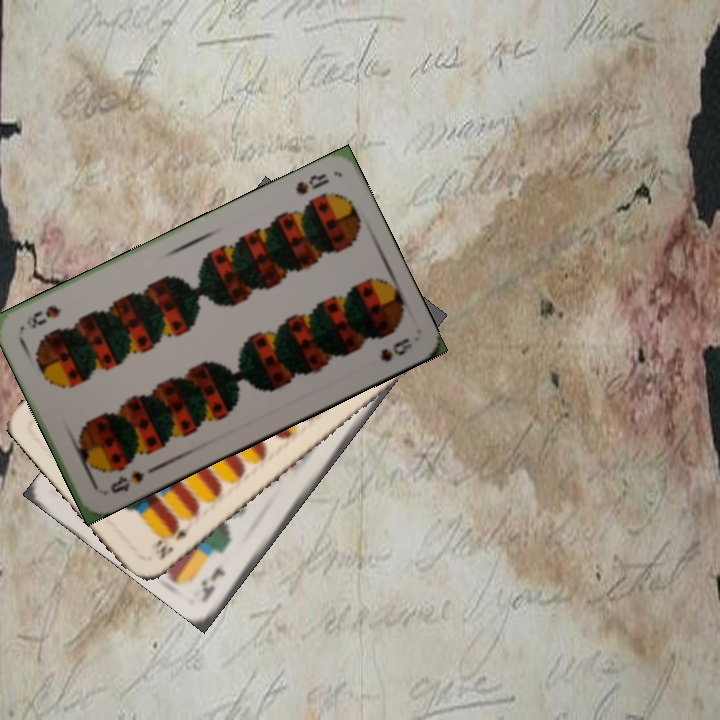E10: (152, 518, 196, 563)
EK: (197, 562, 228, 600)
S8: (106, 466, 148, 497), (291, 169, 332, 198)
